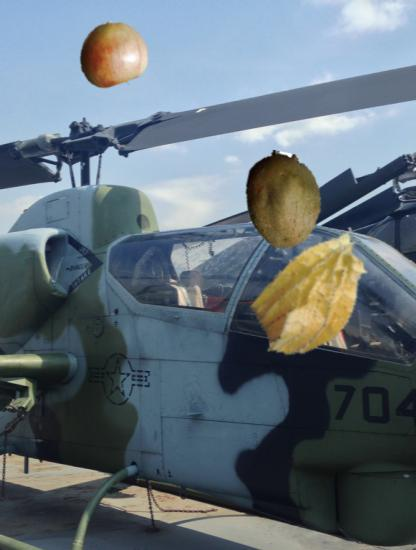Apple: (78, 20, 149, 91)
Papaya: (235, 153, 330, 248)
Physalis: (240, 223, 387, 370)
